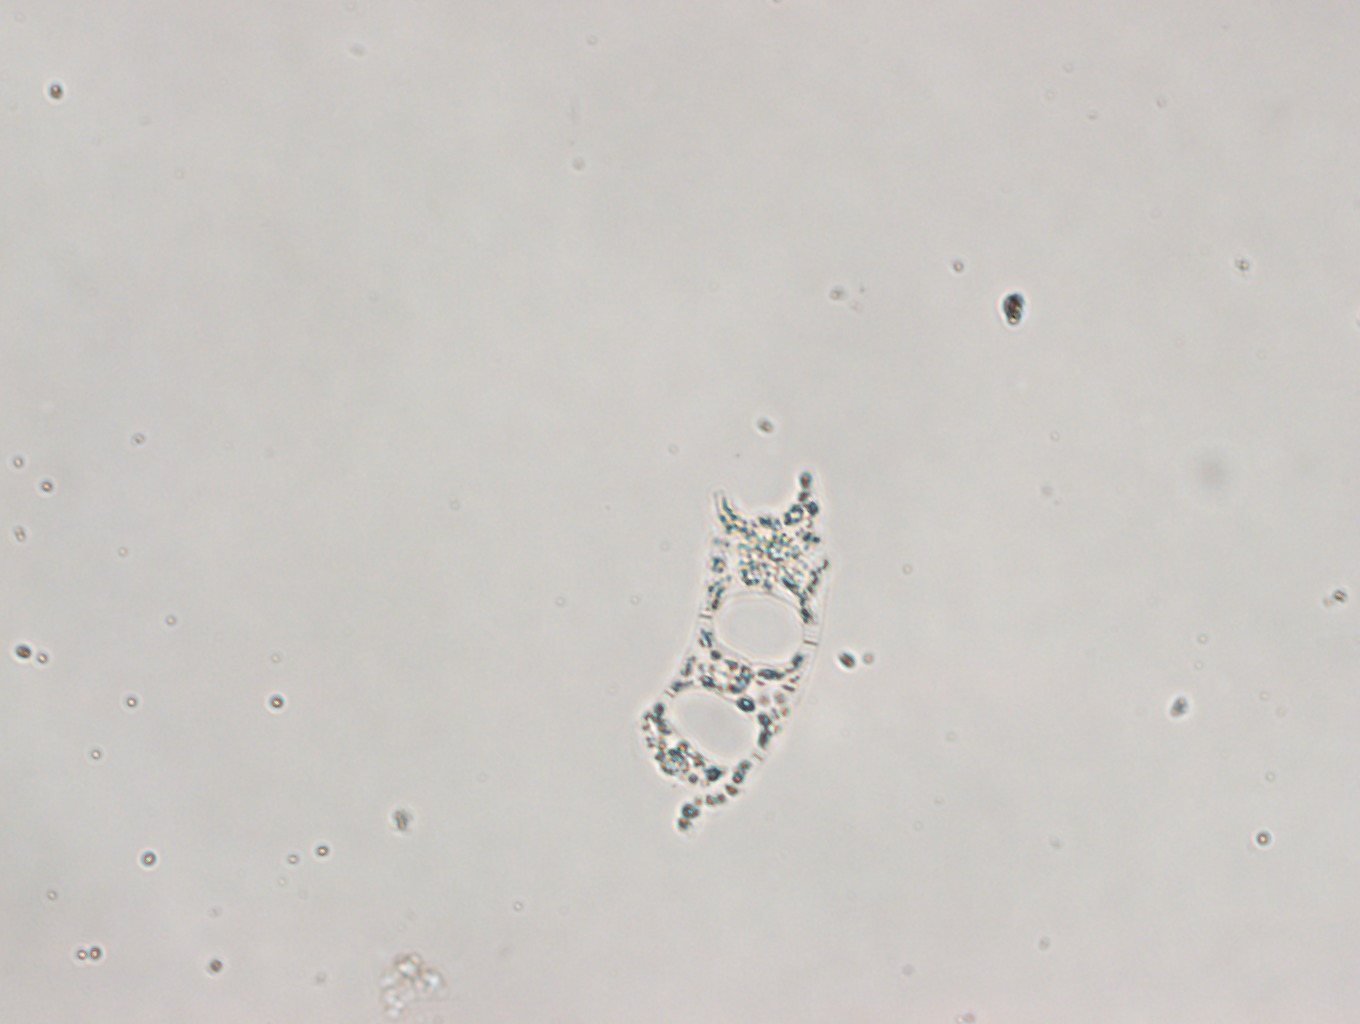eucampia: (635, 471, 830, 834)
